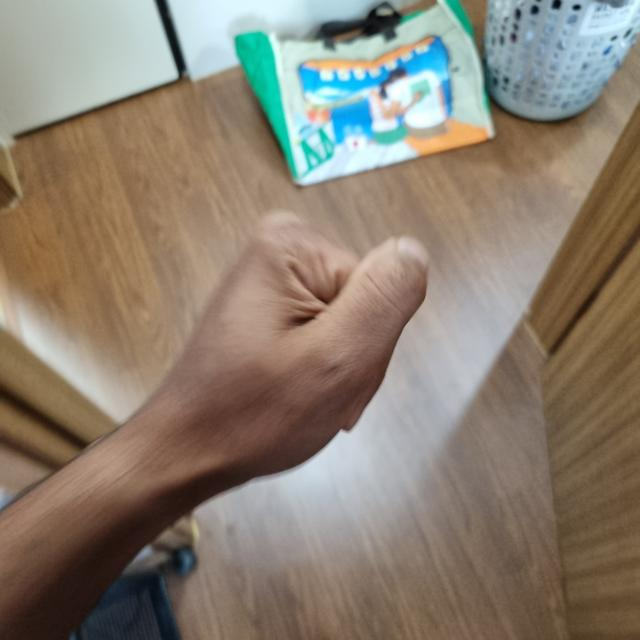Rock: (156, 220, 424, 478)
